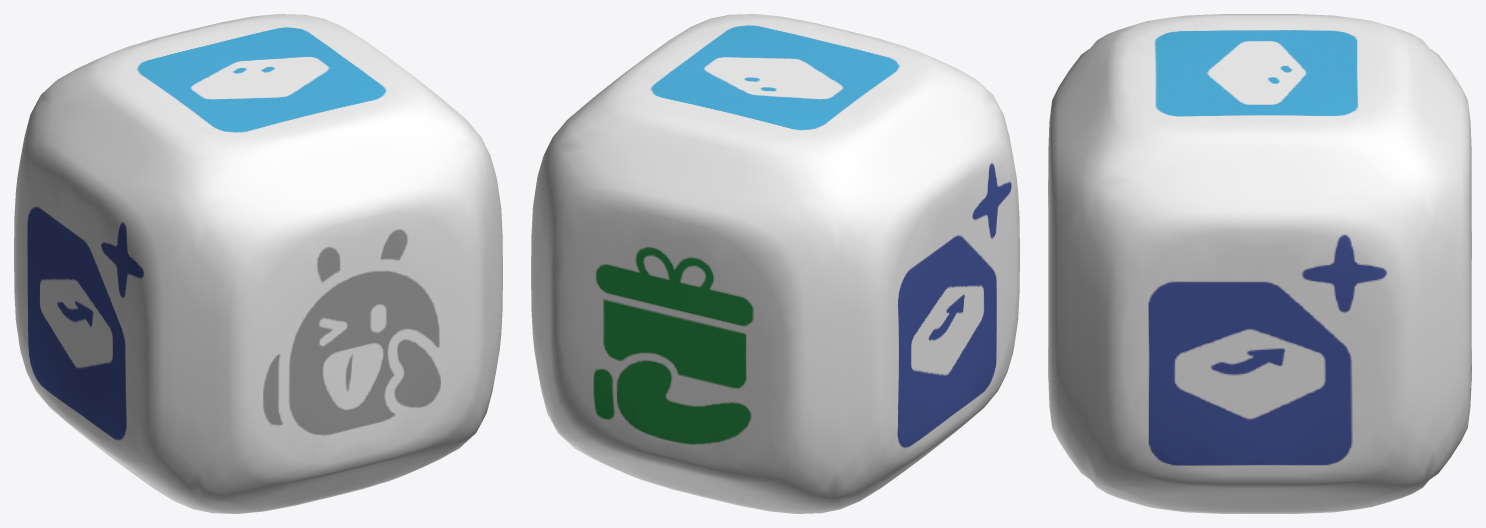
File: dice.glb
The picture shows the model from 3 angles, left to right: view 1: azimuth 30°, elevation 25°; view 2: azimuth 150°, elevation 25°; view 3: azimuth 270°, elevation 25°; orthographic projection. The views are drawn at different scales.
Visible parts, largest first — view 1: Cube.001; view 2: Cube.001; view 3: Cube.001.
Boxes of the visible parts, <box> form: Cube.001: <box>14,14,502,513</box>; Cube.001: <box>531,14,1019,513</box>; Cube.001: <box>1048,14,1471,513</box>.
Size of the model in its own units: 1.72 by 1.72 by 1.72.
1 material, 1 textured.
